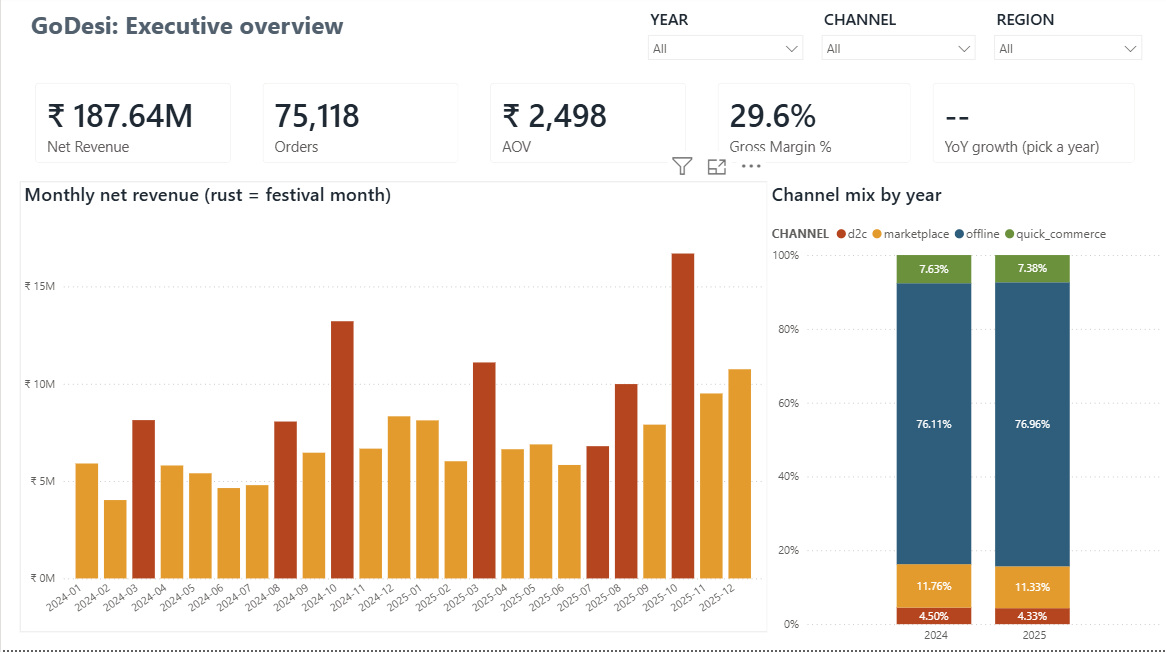

The page's visual inventory and layout, read from the dashboard file:
{"tool":"powerbi","page":{"name":"Executive Overview","canvas":[1280,720],"ordinal":0},"visuals":[{"type":"slicer","fields":{"Values":["DIM_DATE.YEAR"]},"box":[699.8,9.6,190.7,70],"z":0},{"type":"slicer","fields":{"Values":["DIM_CHANNEL.CHANNEL"]},"box":[890.6,9.6,189.4,70],"z":1000},{"type":"slicer","fields":{"Values":["DIM_GEOGRAPHY.REGION"]},"box":[1079.9,9.6,182.5,70],"z":2000},{"type":"cardVisual","fields":{"Data":["FCT_ORDER_ITEMS.Net Revenue"]},"box":[20.6,79.6,249.7,122.1],"z":3000},{"type":"cardVisual","fields":{"Data":["FCT_ORDER_ITEMS.Orders"]},"box":[270.3,79.6,249.7,122.1],"z":4000},{"type":"cardVisual","fields":{"Data":["FCT_ORDER_ITEMS.AOV"]},"box":[520.1,79.6,249.7,122.1],"z":5000},{"type":"cardVisual","fields":{"Data":["FCT_ORDER_ITEMS.Gross Margin %"]},"box":[769.8,79.6,247,122.1],"z":6000},{"type":"cardVisual","title":" YoY growth (pick a year)","fields":{"Data":["FCT_ORDER_ITEMS.Revenue YoY %"]},"box":[1005.8,79.6,256.6,122.1],"z":7000},{"type":"clusteredColumnChart","title":"Monthly net revenue (rust = festival month)","fields":{"Category":["DIM_DATE.YEAR_MONTH"],"Y":["FCT_ORDER_ITEMS.Net Revenue"]},"box":[20,205,820.6,495],"z":8000},{"type":"hundredPercentStackedColumnChart","title":"Channel mix by year","fields":{"Category":["DIM_DATE.YEAR"],"Y":["FCT_ORDER_ITEMS.Net Revenue"],"Series":["DIM_CHANNEL.CHANNEL"]},"box":[841.2,204.5,439.1,516],"z":9000},{"type":"textbox","box":[20,10,600,50],"z":10000}]}

Visuals, with their boxes in screenshot pixels (x1, y1, x2, y2), scaled from the page's 1280x720 canvas onto the 1166x652 screenshot:
slicer - DIM_DATE.YEAR: [left=637, top=9, right=811, bottom=72]
slicer - DIM_CHANNEL.CHANNEL: [left=811, top=9, right=984, bottom=72]
slicer - DIM_GEOGRAPHY.REGION: [left=984, top=9, right=1150, bottom=72]
cardVisual - FCT_ORDER_ITEMS.Net Revenue: [left=19, top=72, right=246, bottom=183]
cardVisual - FCT_ORDER_ITEMS.Orders: [left=246, top=72, right=474, bottom=183]
cardVisual - FCT_ORDER_ITEMS.AOV: [left=474, top=72, right=701, bottom=183]
cardVisual - FCT_ORDER_ITEMS.Gross Margin %: [left=701, top=72, right=926, bottom=183]
" YoY growth (pick a year)" cardVisual: [left=916, top=72, right=1150, bottom=183]
"Monthly net revenue (rust = festival month)" clusteredColumnChart: [left=18, top=186, right=766, bottom=634]
"Channel mix by year" hundredPercentStackedColumnChart: [left=766, top=185, right=1165, bottom=651]
textbox: [left=18, top=9, right=565, bottom=54]
